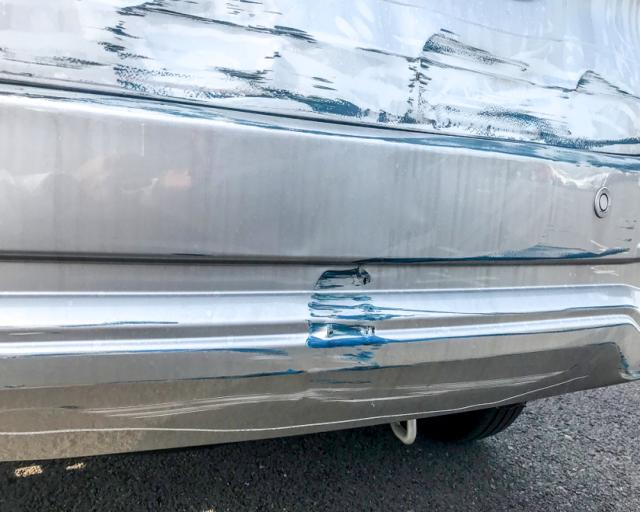scratch: (0, 237, 640, 454), (0, 0, 640, 155), (0, 83, 640, 172)
